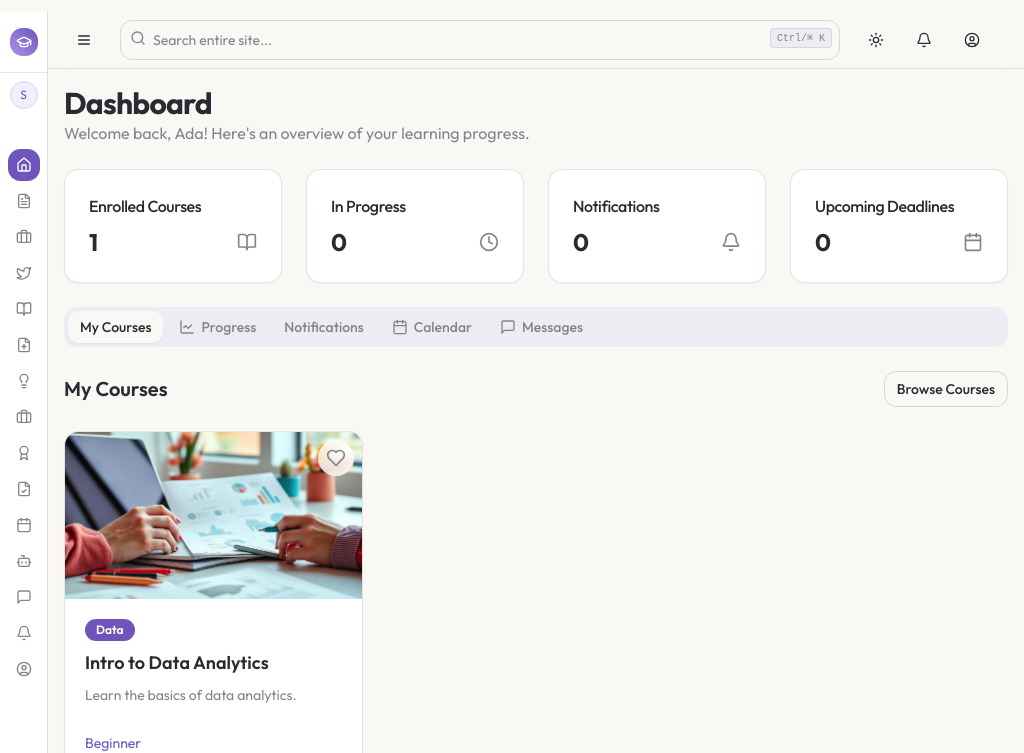
Test: Dashboard › Calendar tab › renders the calendar panel when the tab is selected
Click the tab "Calendar" at [432, 327], box [380,311,484,343]
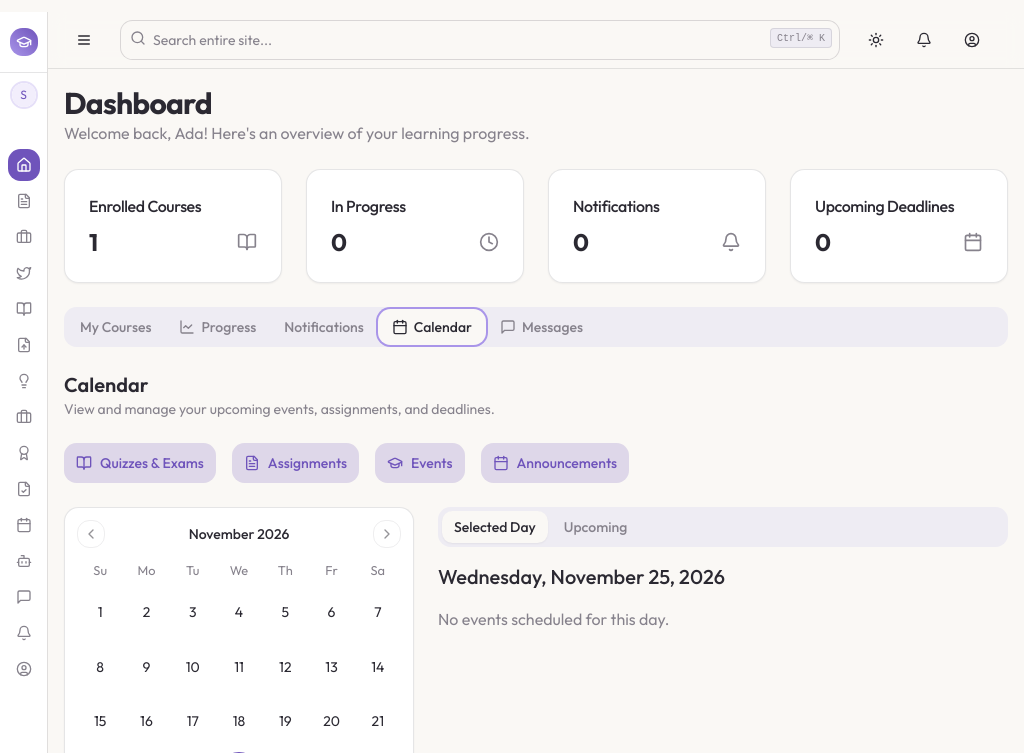
Check: the tab "Selected Day" is shown, box [442,511,548,543]
Check: the button "Quizzes & Exams" is shown, box [64,443,216,483]
